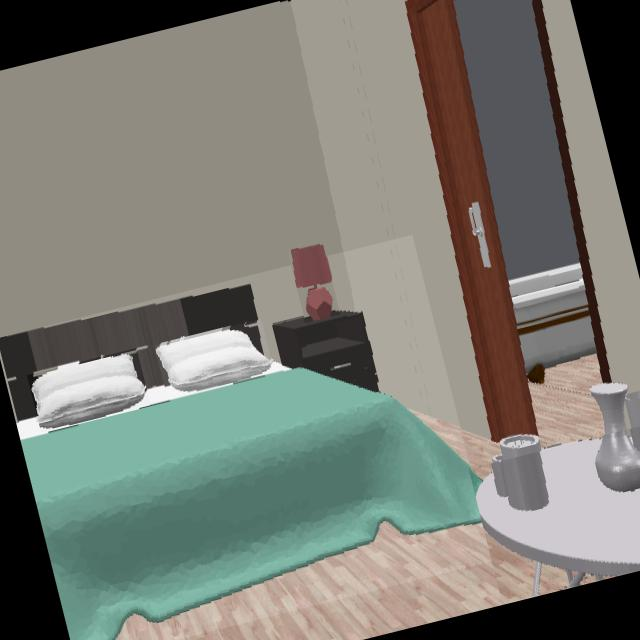bed: (0, 286, 478, 640)
lamp: (292, 245, 333, 320)
nighttable: (273, 309, 379, 391)
pillow: (32, 356, 145, 425), (156, 329, 271, 390)
table: (477, 438, 640, 594)
